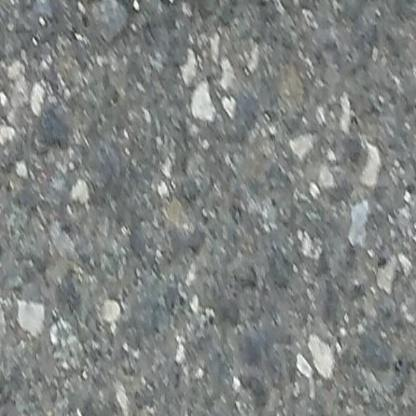Cracks: (67, 0, 195, 9)
